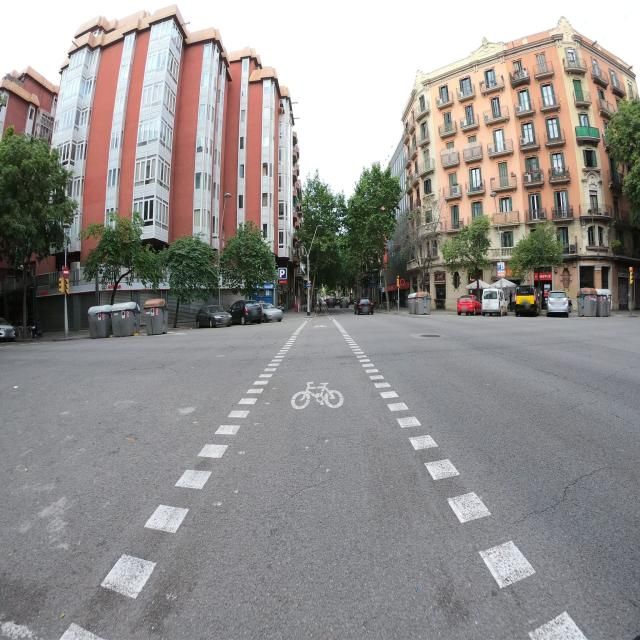car: (514, 284, 542, 316), (195, 304, 232, 328), (228, 299, 262, 325), (481, 288, 509, 316), (546, 290, 570, 318), (457, 294, 482, 316), (258, 301, 284, 322), (0, 314, 16, 343), (355, 297, 374, 315), (326, 295, 335, 308), (340, 298, 349, 308)
